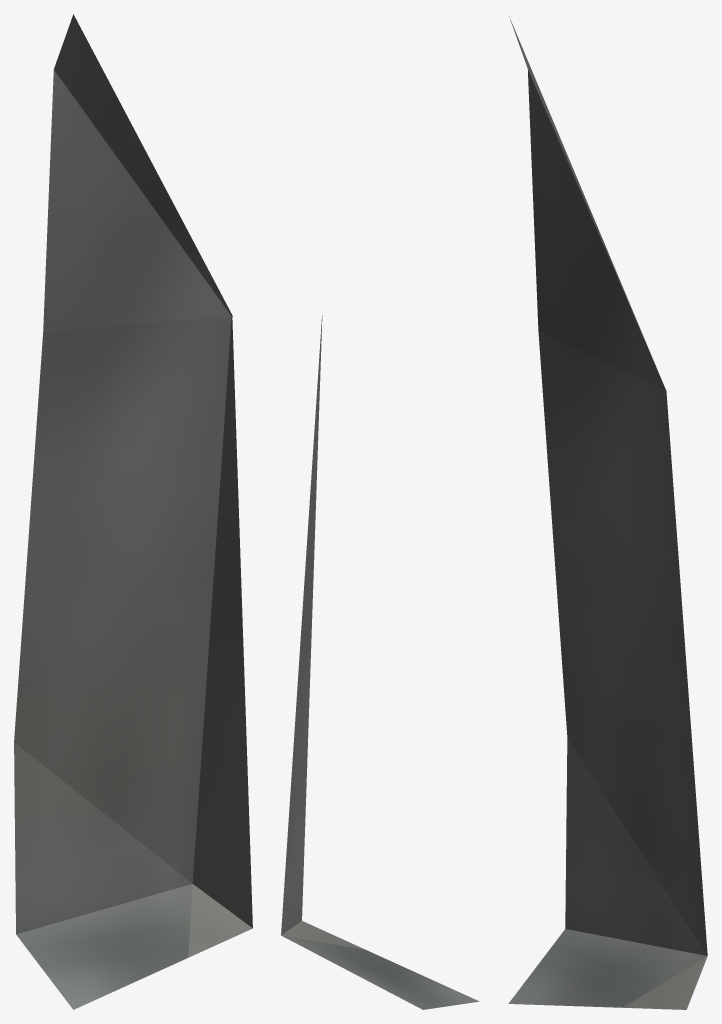
The picture shows the model from 3 angles, left to right: view 1: azimuth 30°, elevation 25°; view 2: azimuth 150°, elevation 25°; view 3: azimuth 330°, elevation 25°; orthographic projection.
Bounding box in the file's own units: 0.052 × 0.2757 × 0.0298.
1 material, 1 textured.
